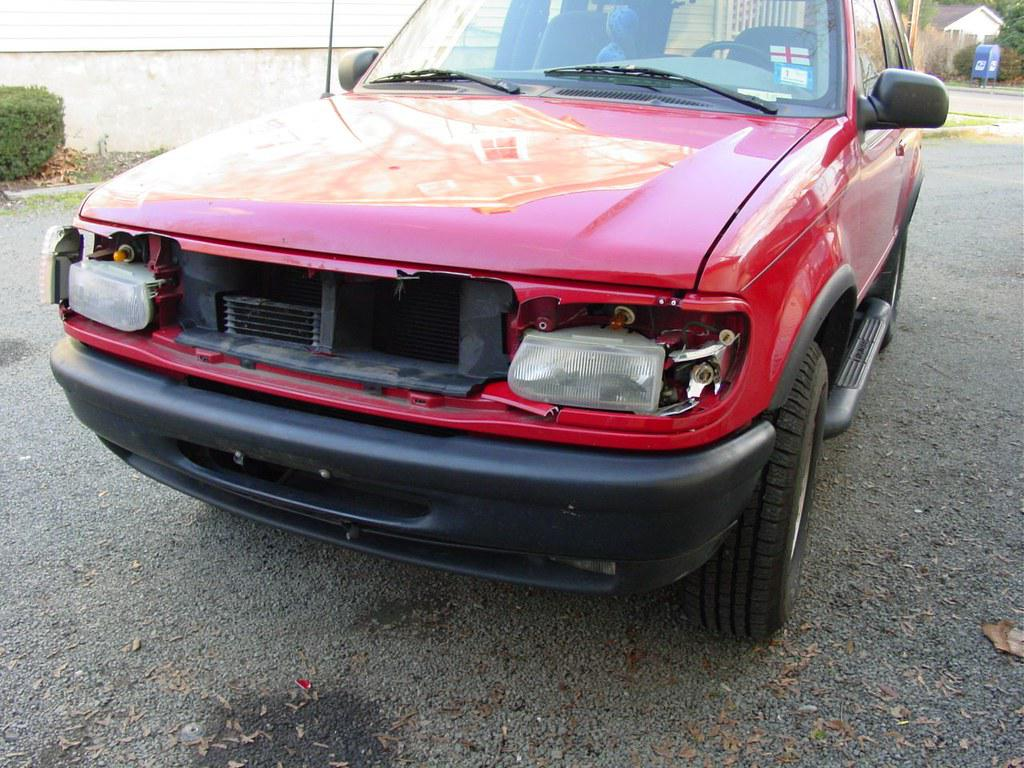front-bumper-dent: (26, 267, 741, 552)
